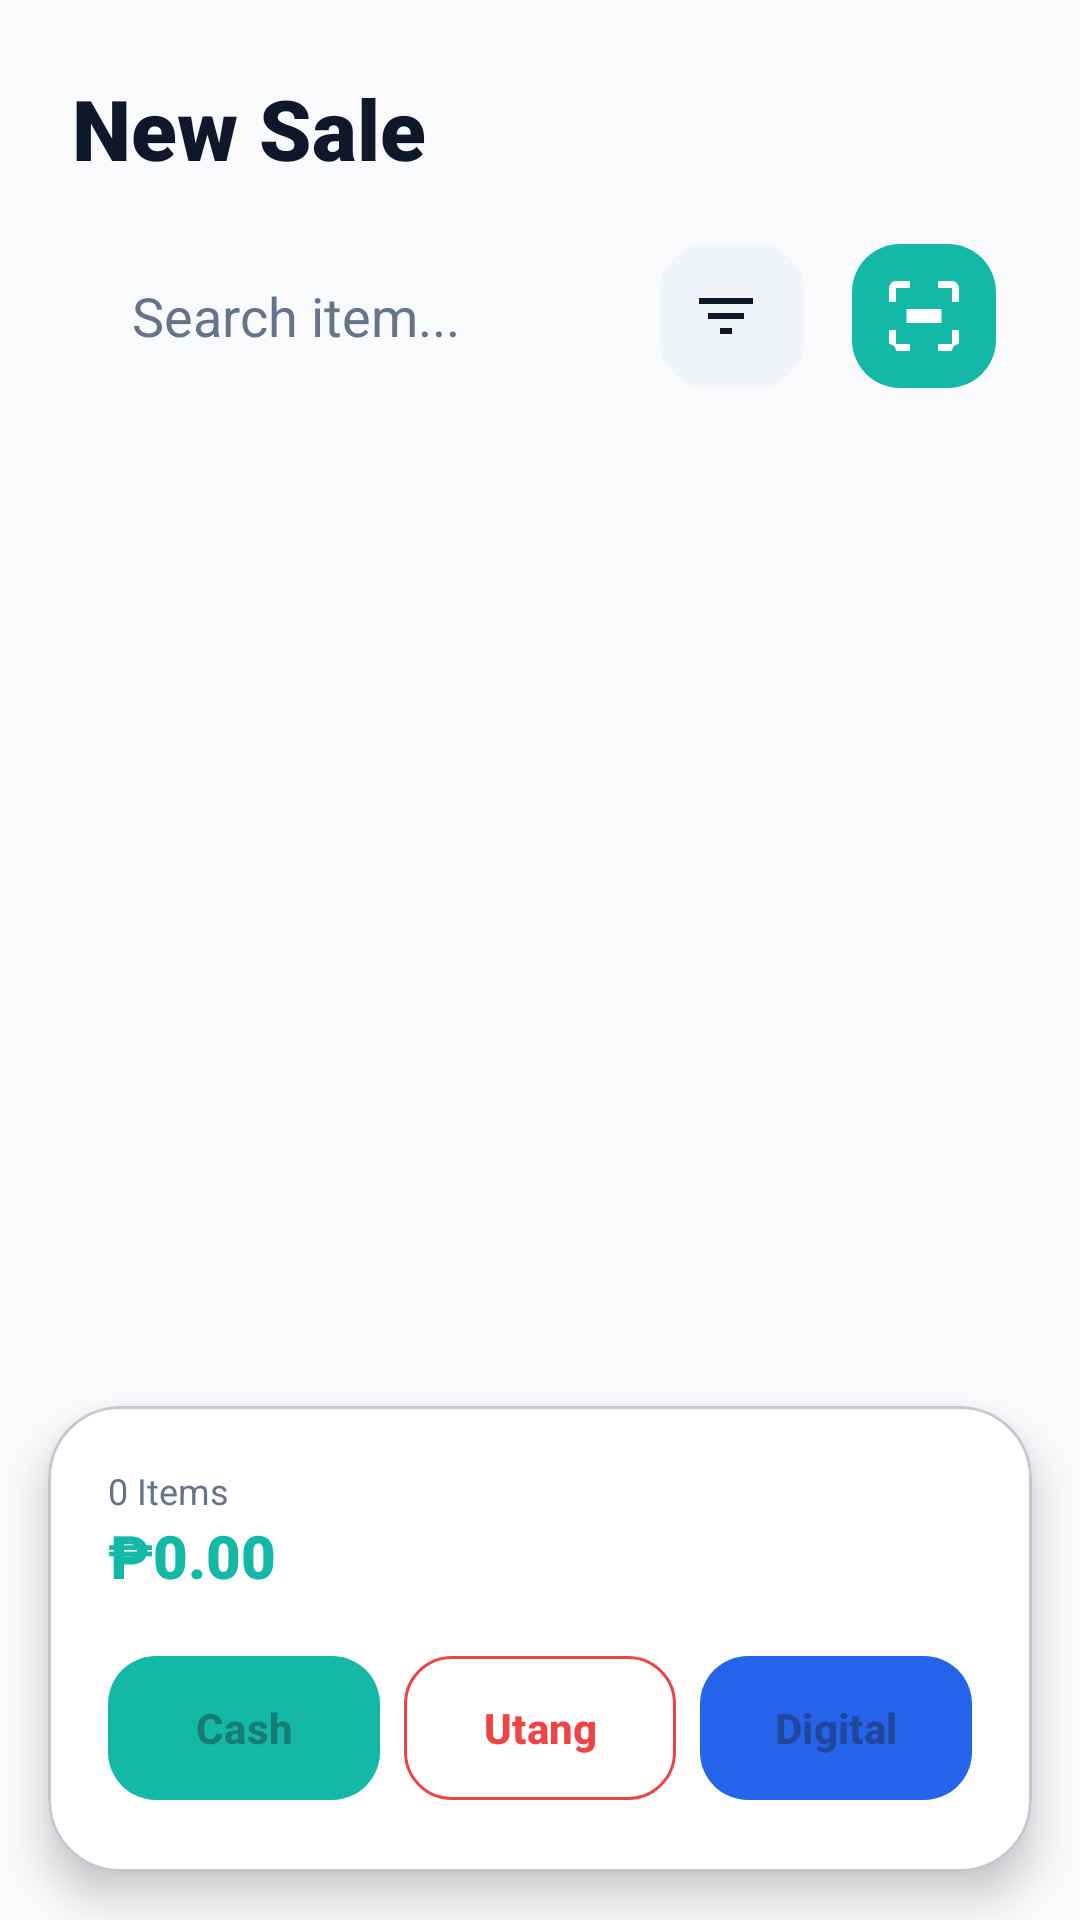

Point at icon controls on the screen. Image size 1080 x 1920, points as (x,y).
filter: (726,316)
scan: (924,316)
